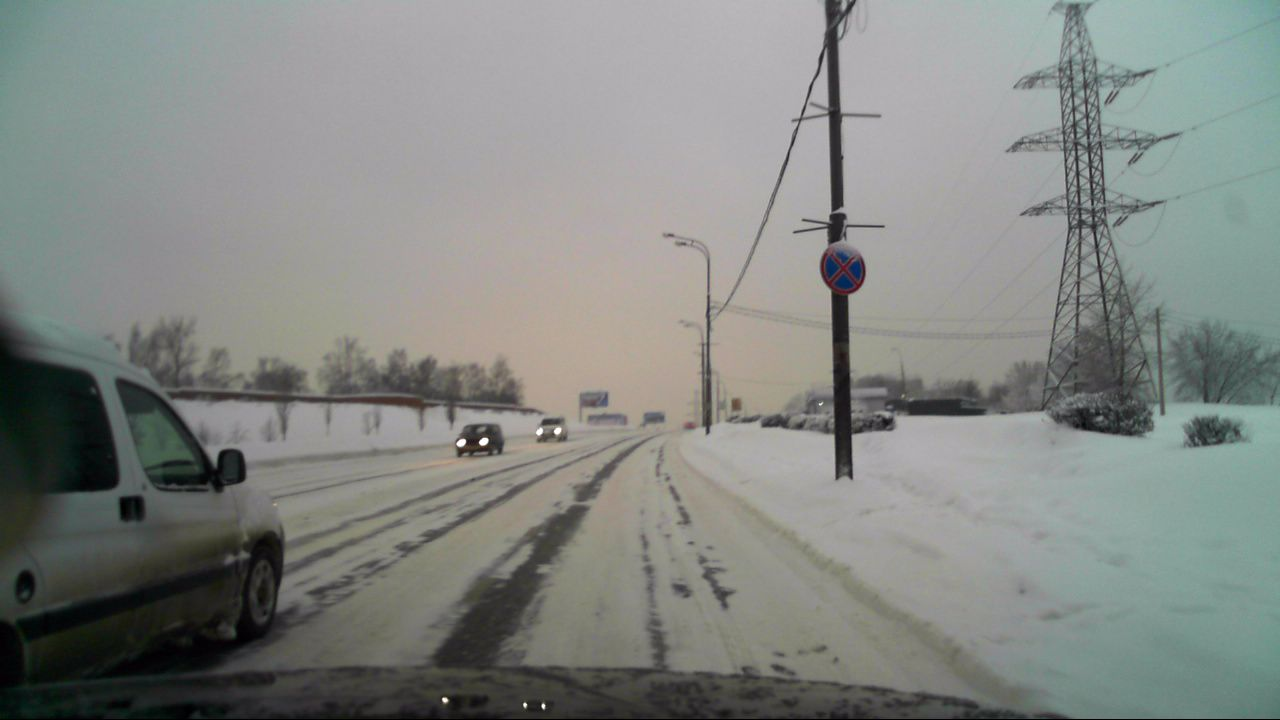No Parking: (819, 239, 869, 297)
